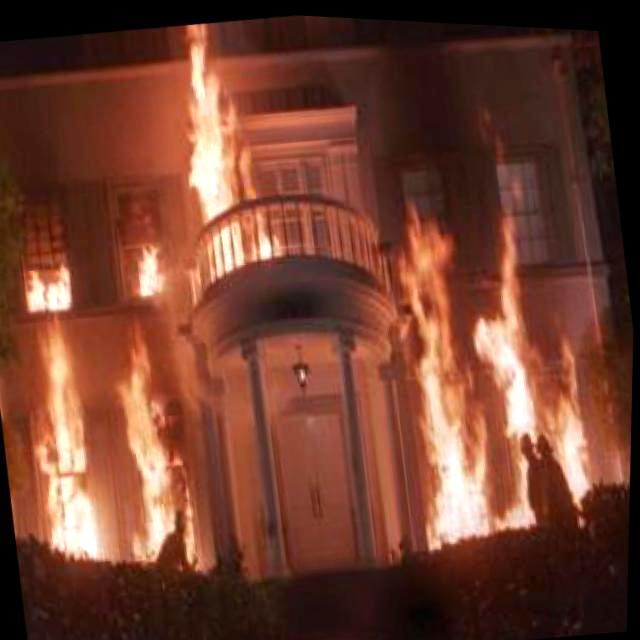fire: (380, 156, 604, 544), (102, 308, 222, 604), (164, 16, 272, 306), (19, 268, 113, 590), (121, 214, 173, 304)
